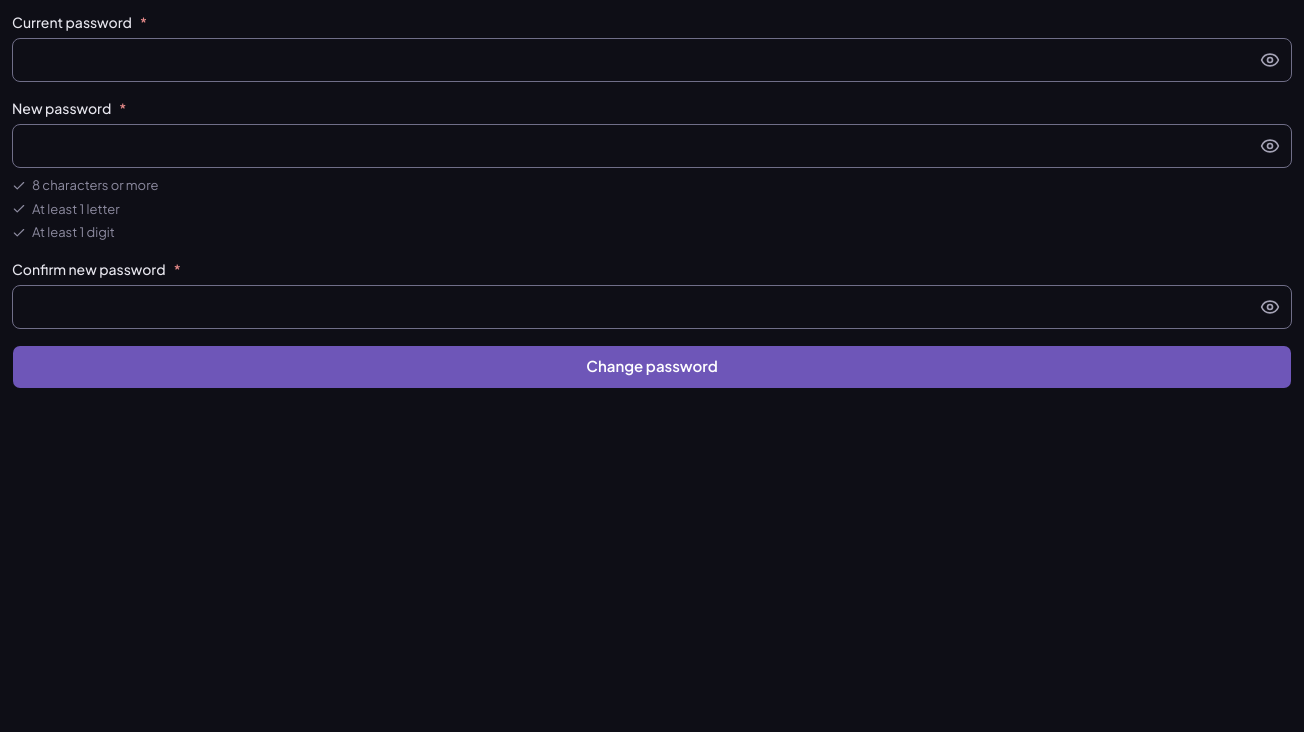
Test: a confirm that does not match shows the message under the confirm field and sends nothing
Step 1. Type "OldPass123" into the password field labelled "Current password *" → x=652, y=60, box [12,38,1292,82]
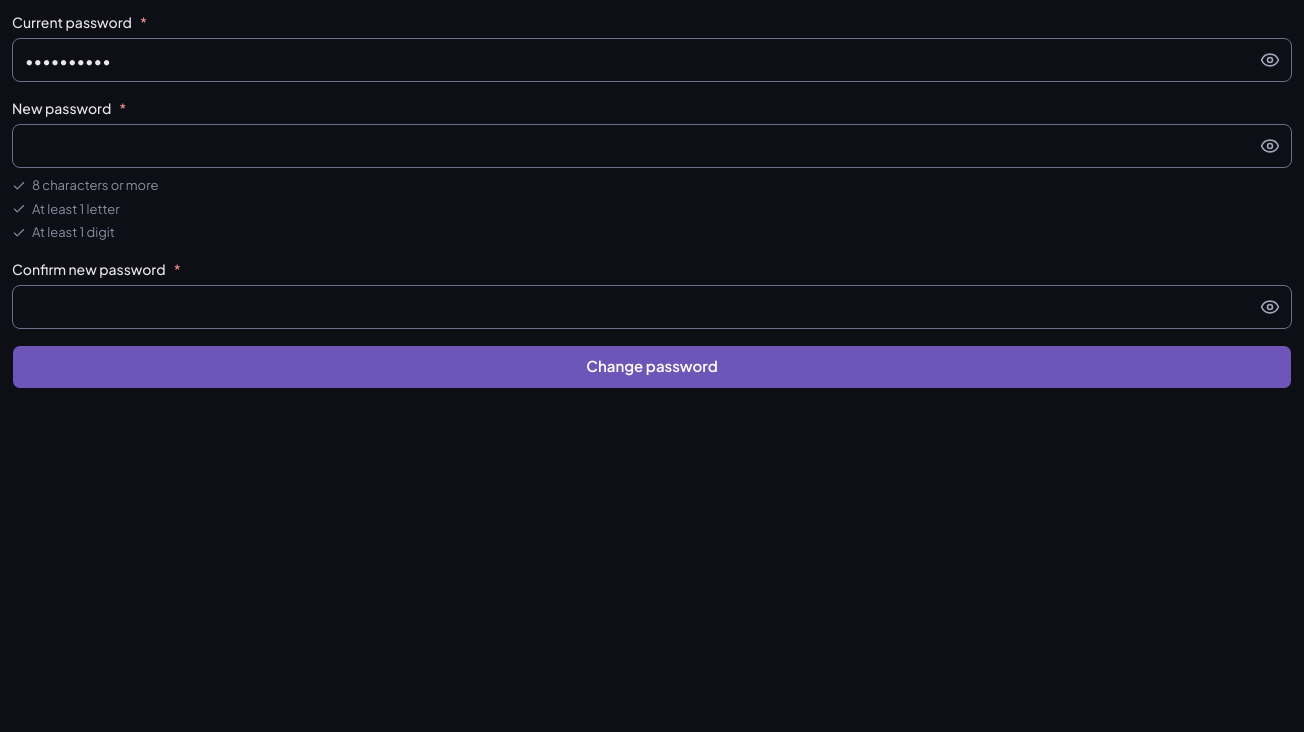
Step 2. Type "NewPass456" into the password field labelled "New password *" → x=652, y=146, box [12,124,1292,168]
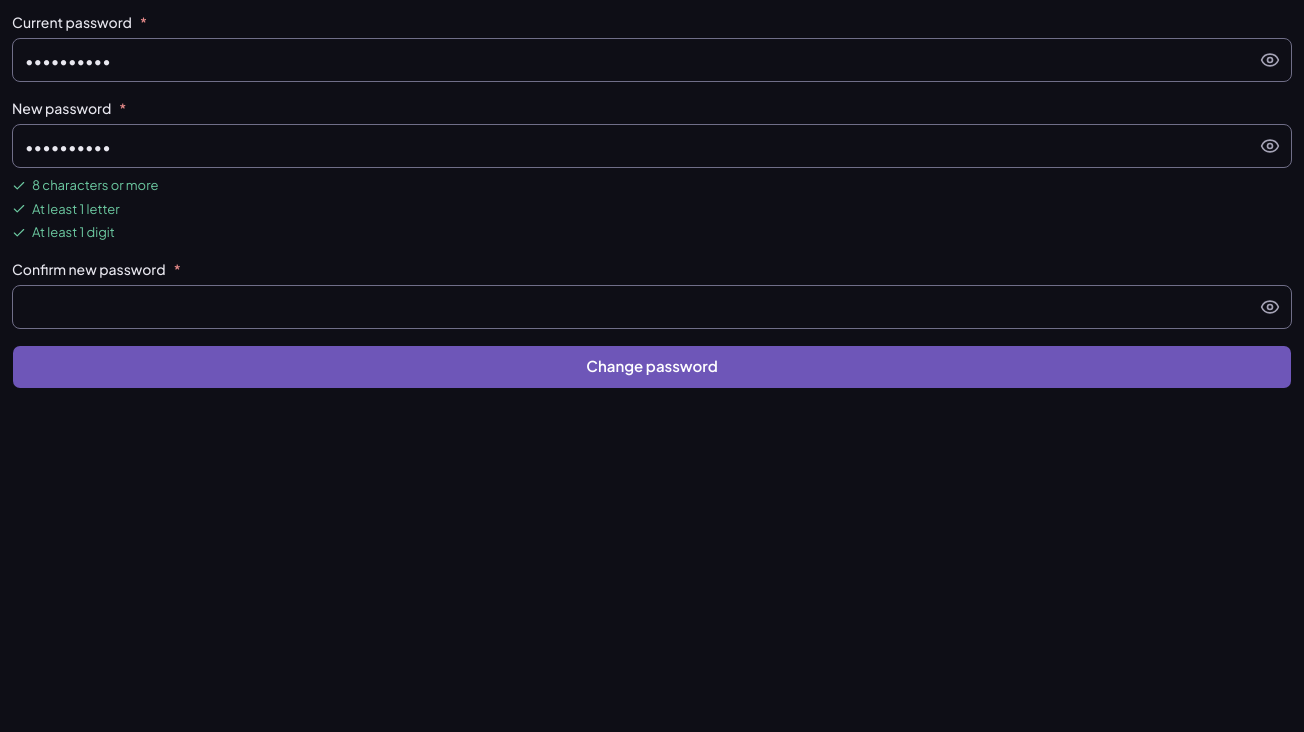
Step 3. Type "NewPass457" into the password field labelled "Confirm new password *" → x=652, y=306, box [12,284,1292,328]
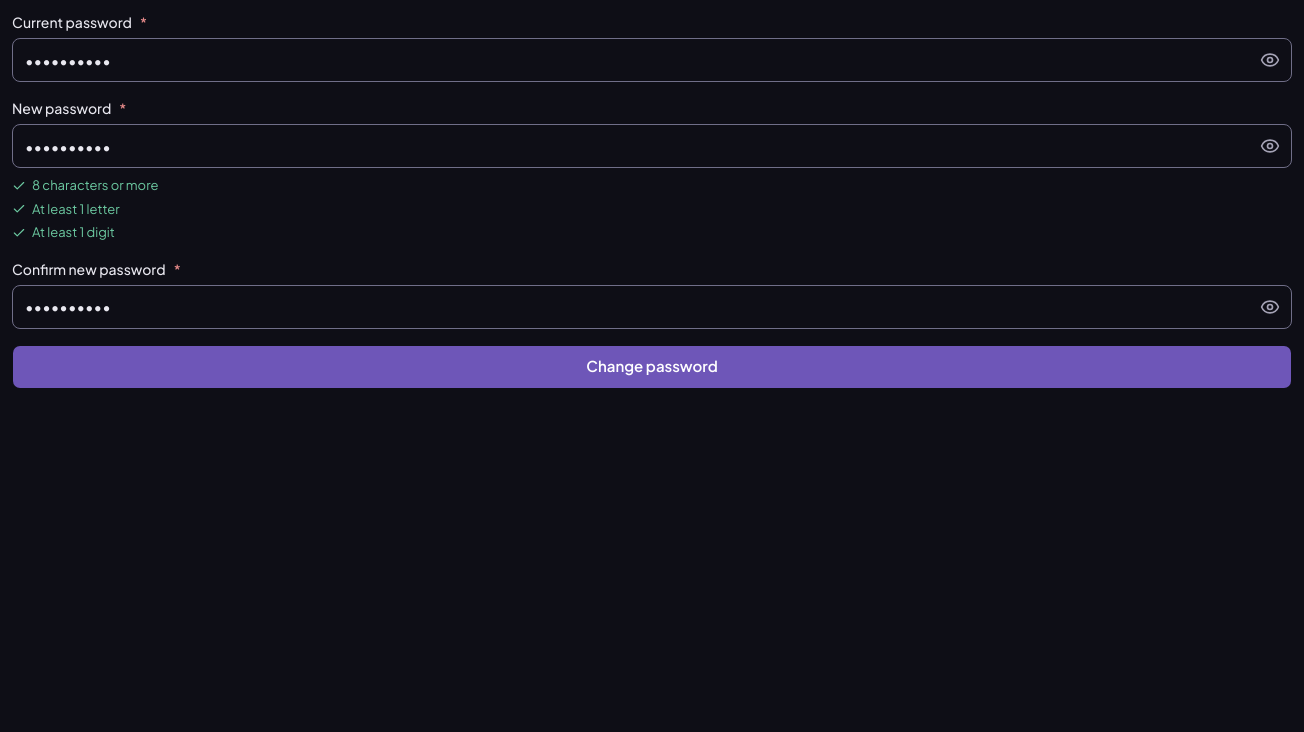
Step 4. Click the button "Change password" → x=652, y=366, box [12,344,1292,388]
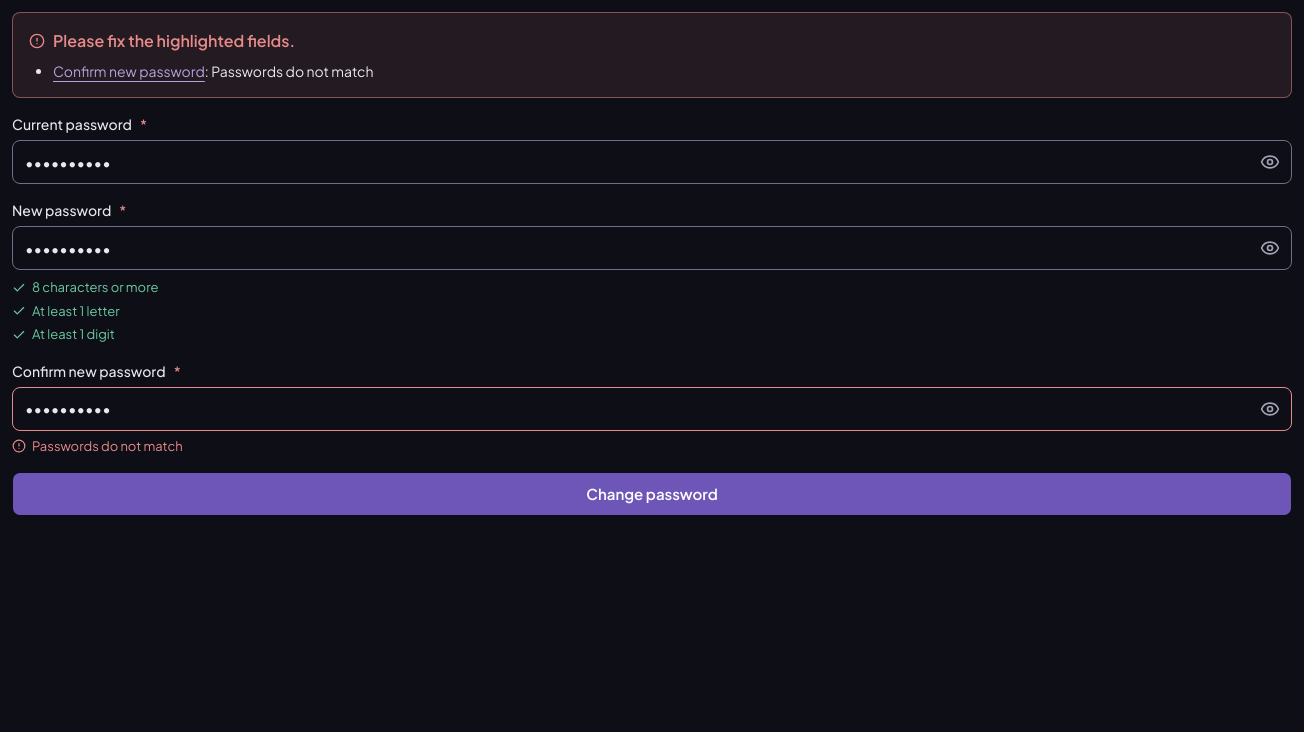
Now the message is shown, box [12,12,1292,98]
Now the element showing "Passwords do not match" is shown, box [12,438,183,454]
